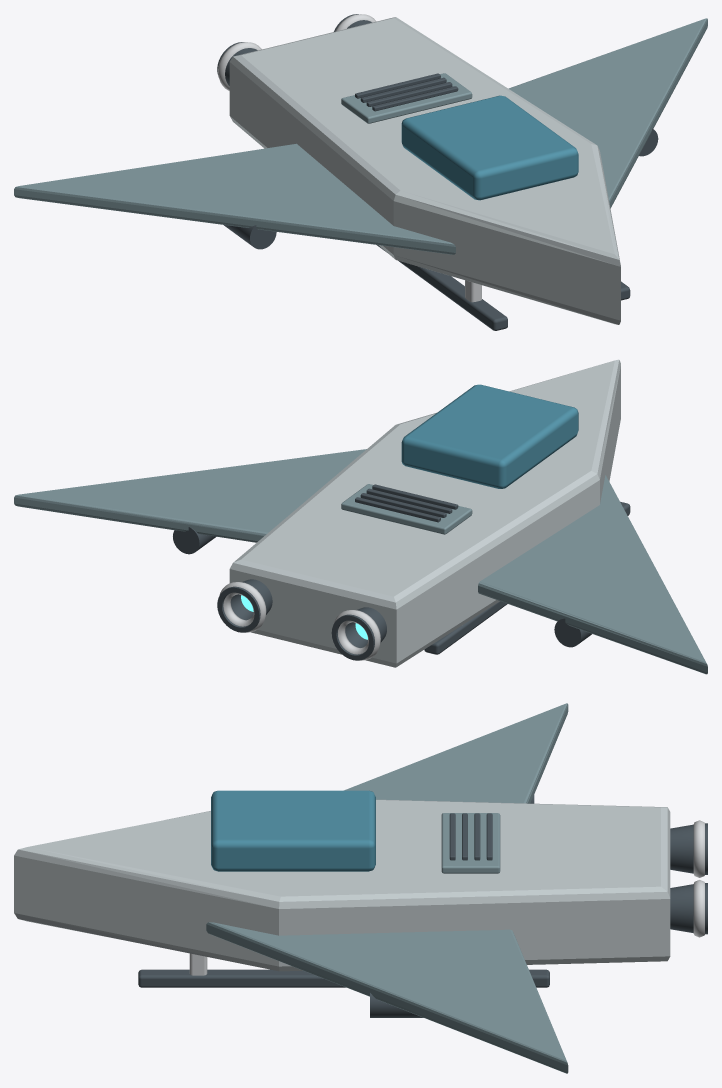
The picture shows the model from 3 angles, top to bottom: view 1: azimuth 30°, elevation 25°; view 2: azimuth 150°, elevation 25°; view 3: azimuth 270°, elevation 25°; orthographic projection. The views are drawn at different scales.
Parts seen in each view (by area): view 1: bomber; view 2: bomber; view 3: bomber.
Boxes of the visible parts, <box> form: bomber: <box>14,14,707,330</box>; bomber: <box>14,359,707,674</box>; bomber: <box>14,703,707,1073</box>.
Size of the model in its own units: 7.27 by 1.3 by 5.91.
